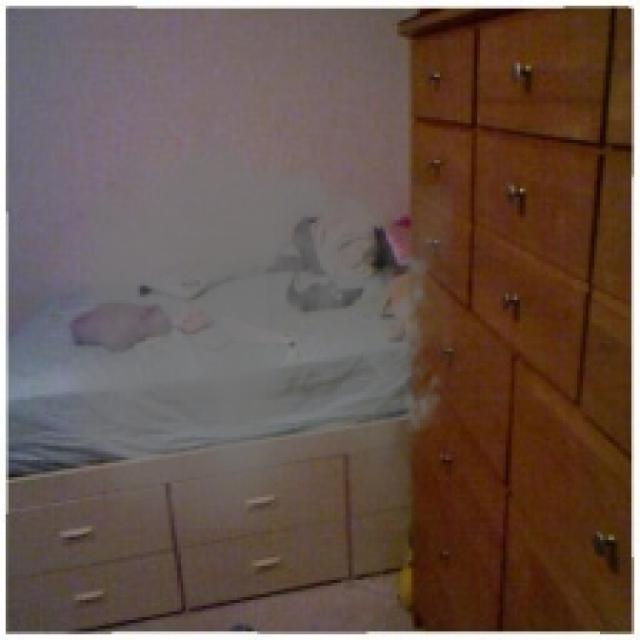smoke: (60, 117, 454, 529)
